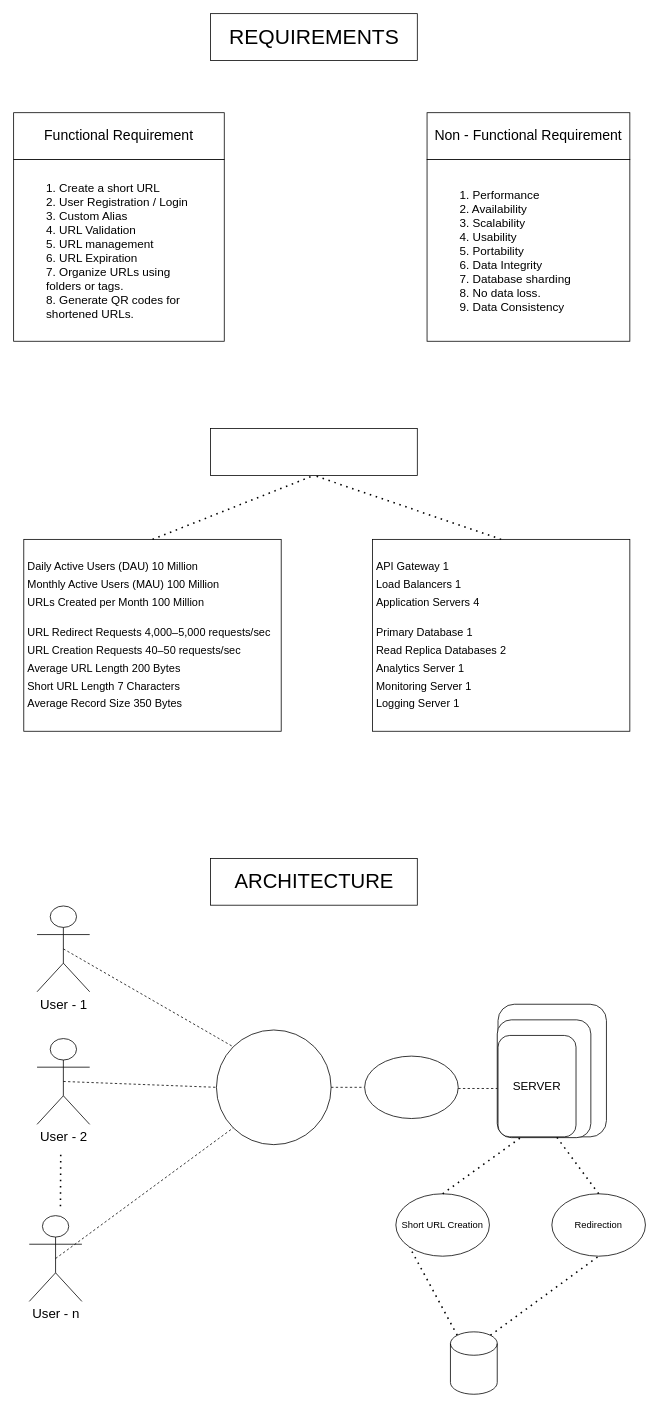
Some shapes in this 659 by 1408 pixel diagram are drawn without their labels. The box of each missing label's shape, as (x1, y1, x2, y2) in pixels:
API GATE: (216, 1029, 331, 1145)
DB: (450, 1331, 497, 1394)
ESTIMATION: (210, 428, 417, 475)
Load Balancer: (364, 1055, 458, 1119)
